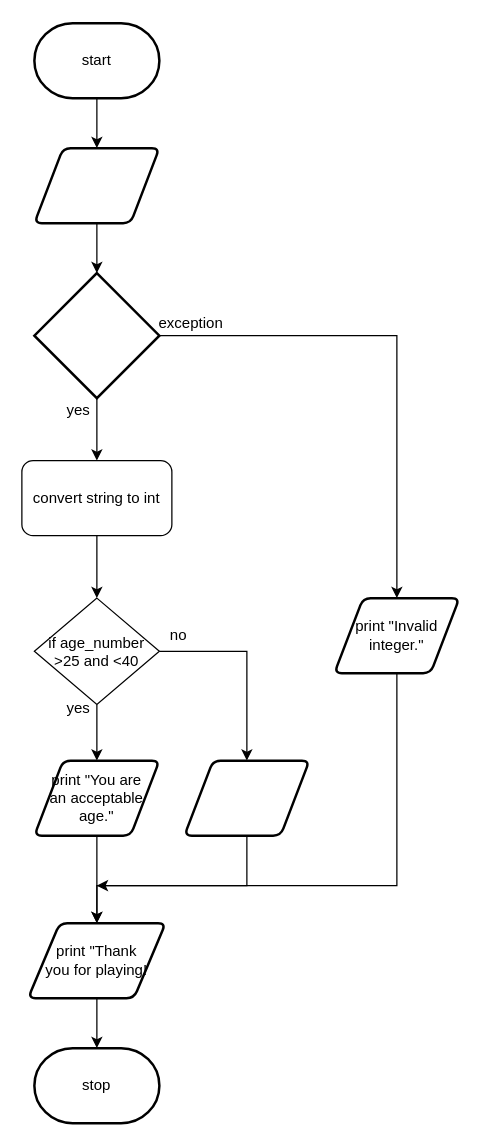
This 483x1145 diagram has some shape labels left out. Each missing label, with the centre of its shape:
get age_number: point (96, 185)
print "You are not an acceptable age.: point (246, 797)
try: point (96, 335)
